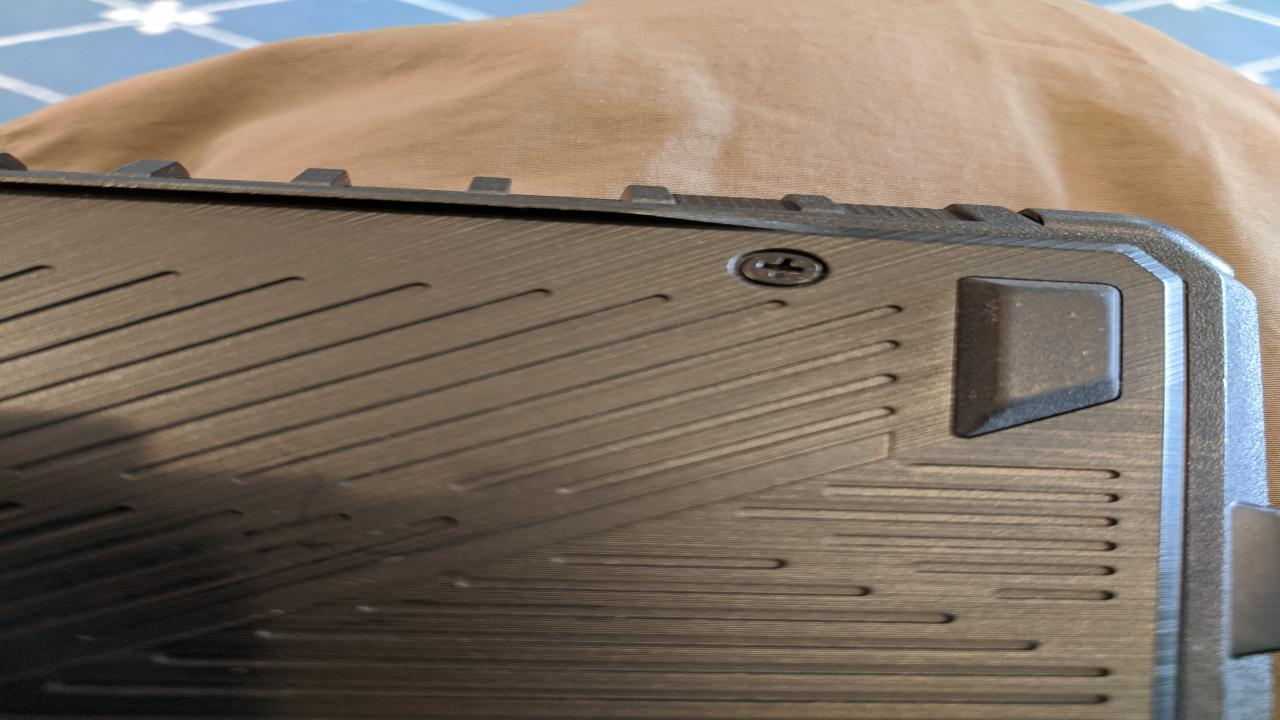CRS: (736, 249, 822, 289)
